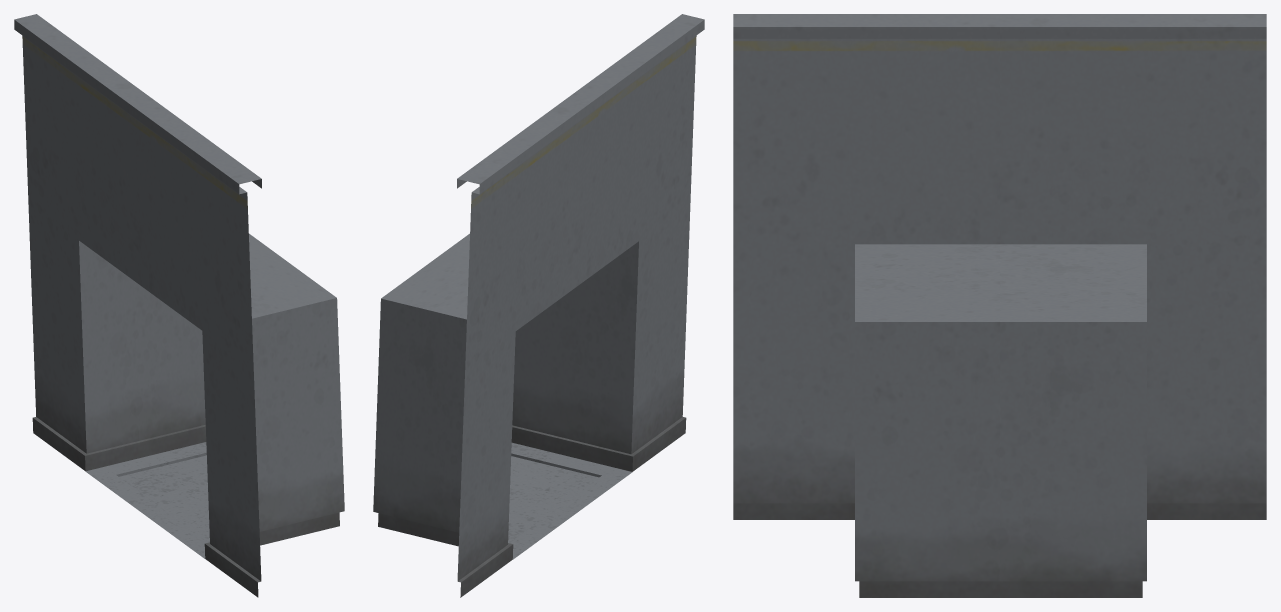
Rendered from spaceStation_wall_c.fbx.
3 views of the same model, side by side, from view 1: azimuth 30°, elevation 25°; view 2: azimuth 150°, elevation 25°; view 3: azimuth 270°, elevation 25° (orthographic). The views are drawn at different scales.
Visible parts, largest first — view 1: Plane, Plane.001; view 2: Plane, Plane.001; view 3: Plane.
Boxes of the visible parts, left/top/right/bottom form: Plane: left=14, top=14, right=344, bottom=597; Plane.001: left=85, top=442, right=209, bottom=558; Plane: left=373, top=14, right=704, bottom=597; Plane.001: left=508, top=442, right=632, bottom=559; Plane: left=733, top=14, right=1266, bottom=597.
Size of the model in its own units: 1.61 by 4.12 by 4.
2 materials, 2 textured.
